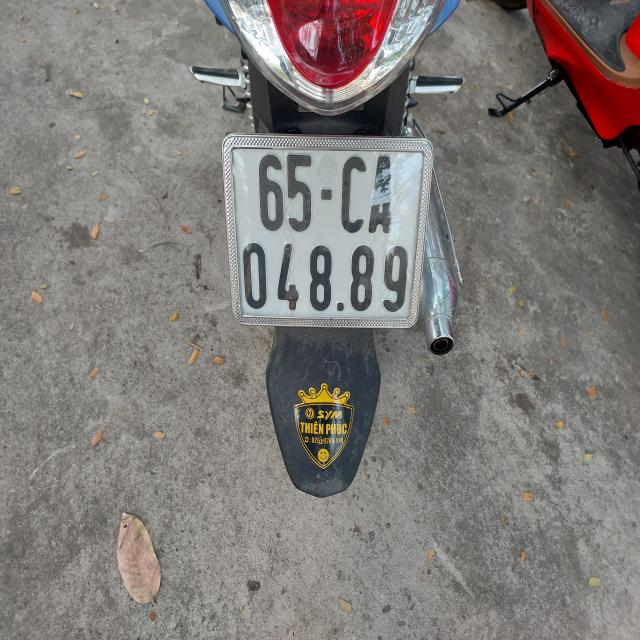0: (240, 241, 270, 314)
4: (276, 242, 301, 312)
5: (286, 153, 314, 232)
6: (258, 154, 285, 232)
8: (350, 240, 376, 314), (309, 242, 334, 313)
9: (382, 243, 410, 313)
A: (370, 152, 394, 239)
C: (336, 152, 366, 236)
